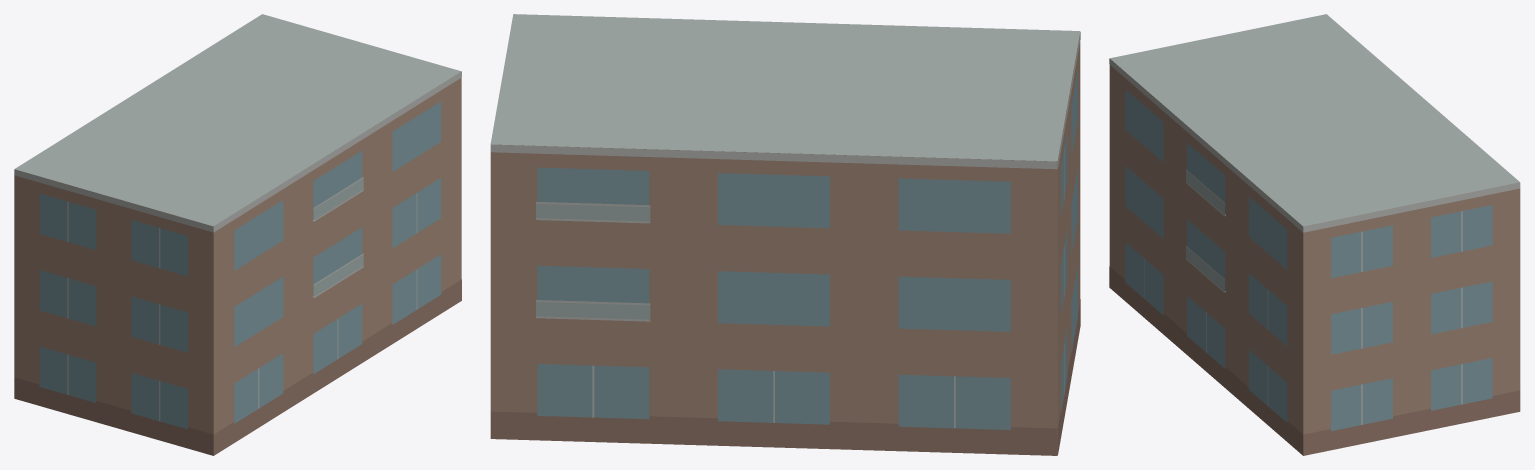
File: survey-upis-32698024.glb
3 views of the same model, side by side, from view 1: azimuth 30°, elevation 25°; view 2: azimuth 150°, elevation 25°; view 3: azimuth 270°, elevation 25° (orthographic). The views are drawn at different scales.
Parts seen in each view (by area): view 1: survey-upis-32698024.tmp; view 2: survey-upis-32698024.tmp; view 3: survey-upis-32698024.tmp.
Part boxes in pixels (bbox=[...]): survey-upis-32698024.tmp: bbox=[14, 14, 461, 455]; survey-upis-32698024.tmp: bbox=[490, 14, 1080, 455]; survey-upis-32698024.tmp: bbox=[1109, 14, 1520, 455].
Bounding box in the file's own units: 18.2 × 9.15 × 14.86.
